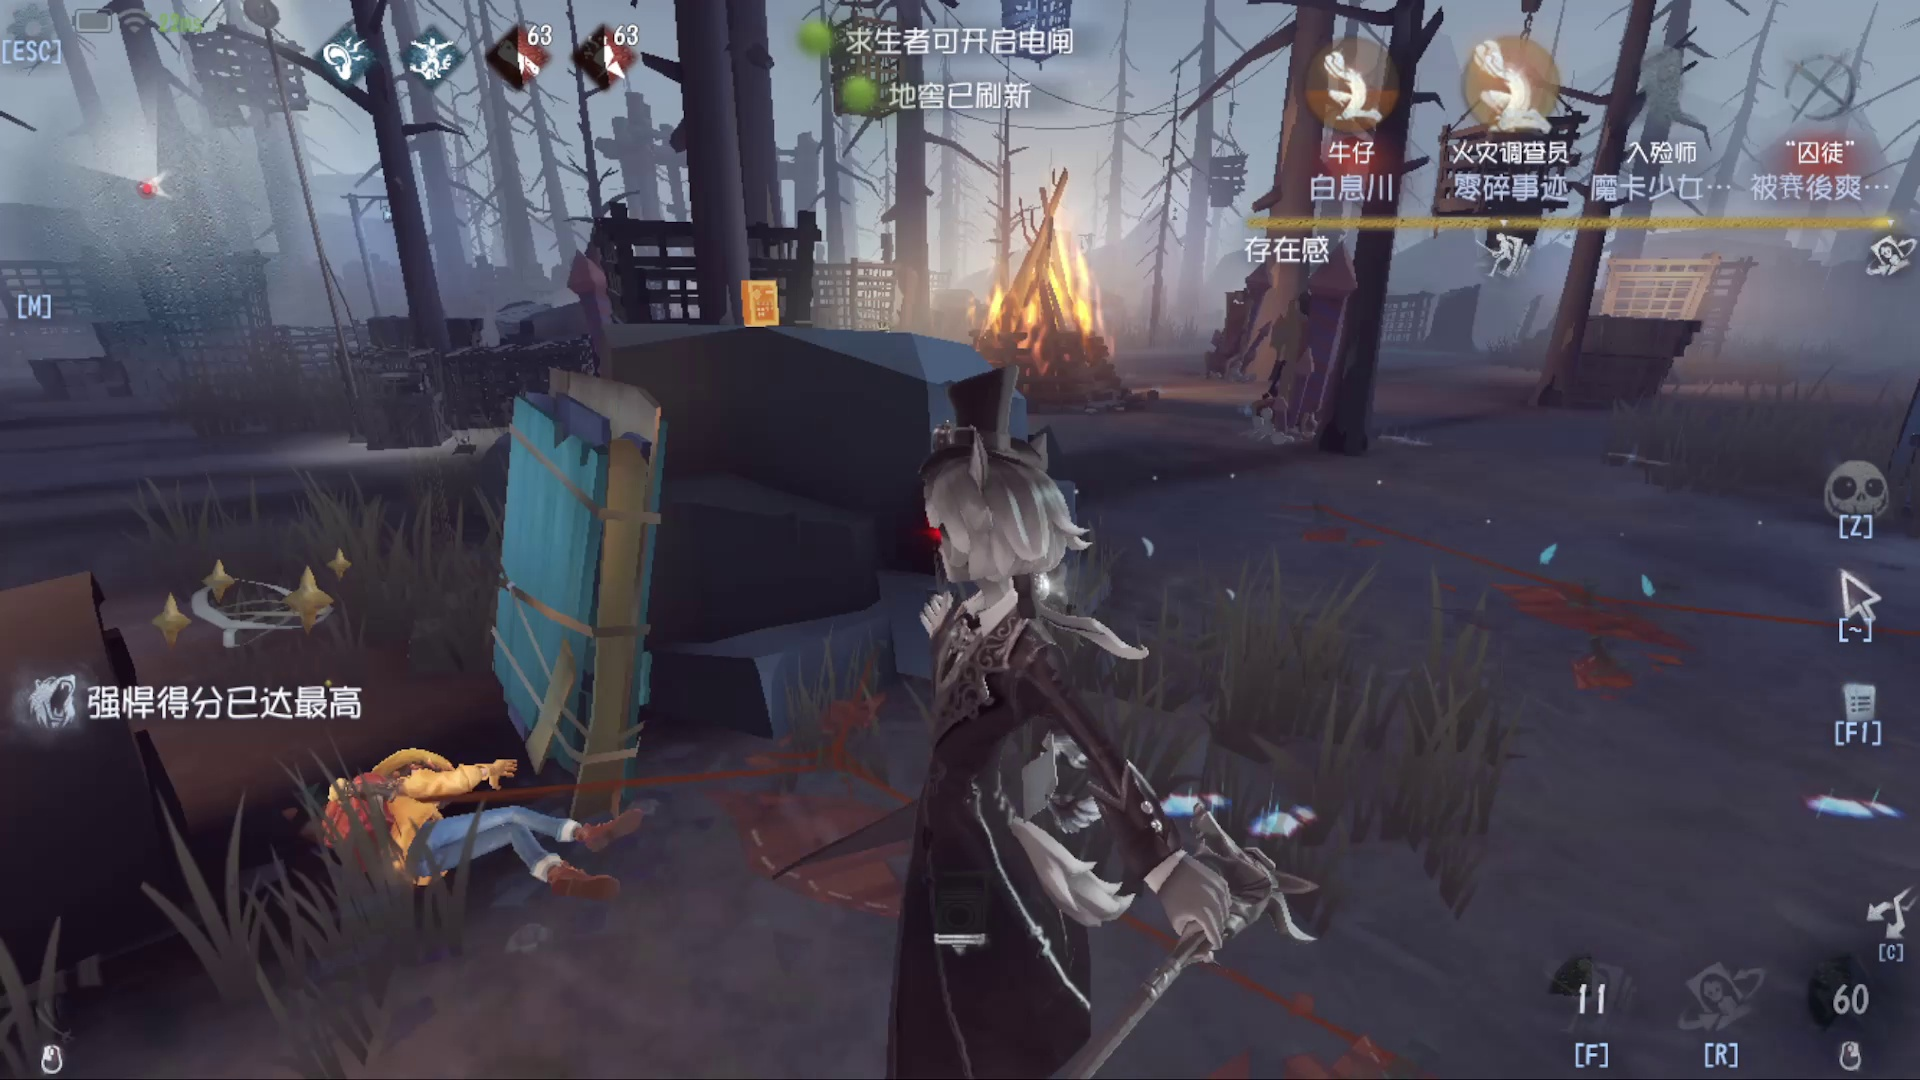木板: (440, 351, 696, 765)
求生者: (284, 729, 680, 953)
狂欢之椅: (1244, 233, 1365, 465)
脚印: (1269, 442, 1807, 740)
